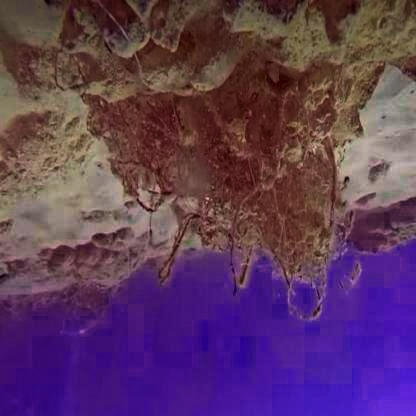net: (85, 70, 370, 342)
